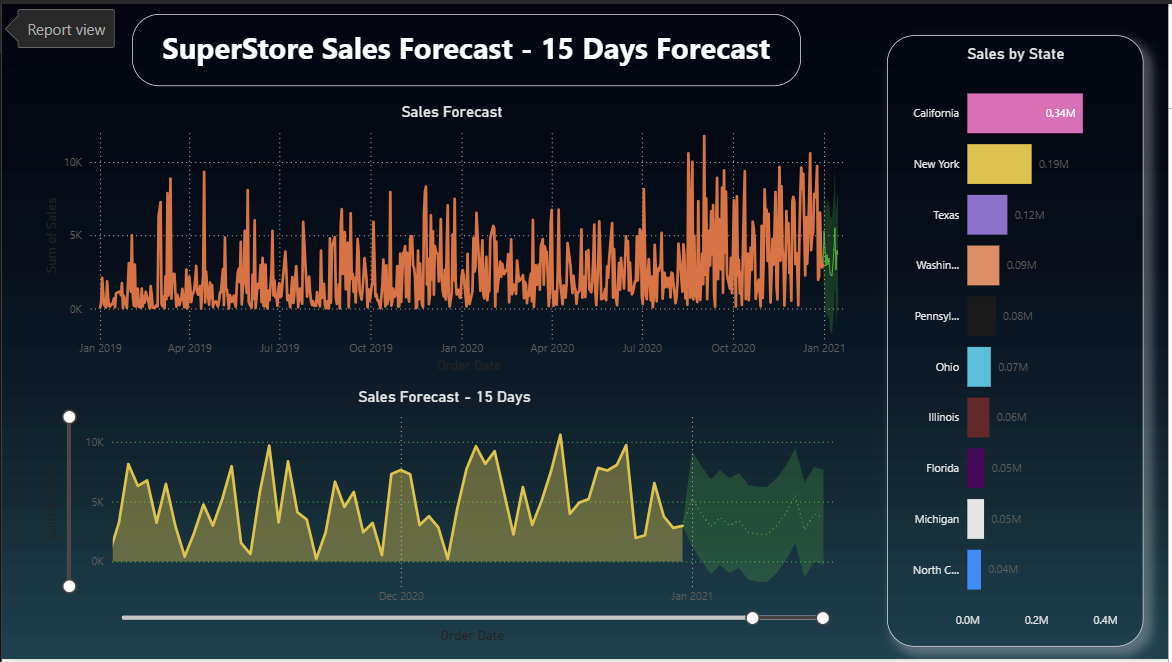

Layout of this report page (visuals, bound fields, positions):
{"tool":"powerbi","page":{"name":"Page 2","canvas":[1280,720],"ordinal":1},"visuals":[{"type":"lineChart","title":"Sales Forecast","fields":{"Y":["Sum(SuperStore_Sales_Dataset.Sales)"],"Category":["SuperStore_Sales_Dataset.Order Date"]},"box":[41.2,108.4,905.7,301.9],"z":0},{"type":"lineChart","title":"Sales Forecast - 15 Days","fields":{"Y":["Sum(SuperStore_Sales_Dataset.Sales)"],"Category":["SuperStore_Sales_Dataset.Order Date"]},"box":[41.2,421.3,889.2,284],"z":1000},{"type":"textbox","box":[142.7,11,734.1,79.6],"z":2000},{"type":"clusteredBarChart","title":"Sales by State","fields":{"Category":["SuperStore_Sales_Dataset.State"],"Y":["Sum(SuperStore_Sales_Dataset.Sales)"]},"box":[971.5,34.3,281.3,671],"z":3000}]}

Visuals, with their boxes on the page's 1280x720 design canvas (x1, y1, x2, y2). These are canvas units, not pixel positions in the 1172x662 screenshot, which may show the page scaled, cropped or inside an application window:
"Sales Forecast" lineChart: l=41, t=108, r=947, b=410
"Sales Forecast - 15 Days" lineChart: l=41, t=421, r=930, b=705
textbox: l=143, t=11, r=877, b=91
"Sales by State" clusteredBarChart: l=972, t=34, r=1253, b=705
